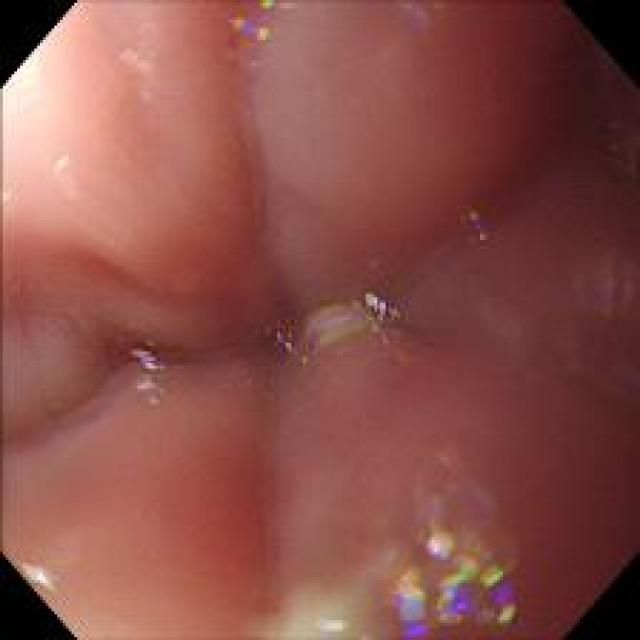blur: (1, 1, 636, 638)
color misalignment: (391, 475, 526, 639), (270, 292, 415, 368), (216, 0, 282, 72), (122, 331, 175, 419), (279, 598, 378, 638), (378, 2, 446, 40), (456, 196, 501, 251), (12, 554, 66, 592)
saturation: (1, 41, 44, 110)
